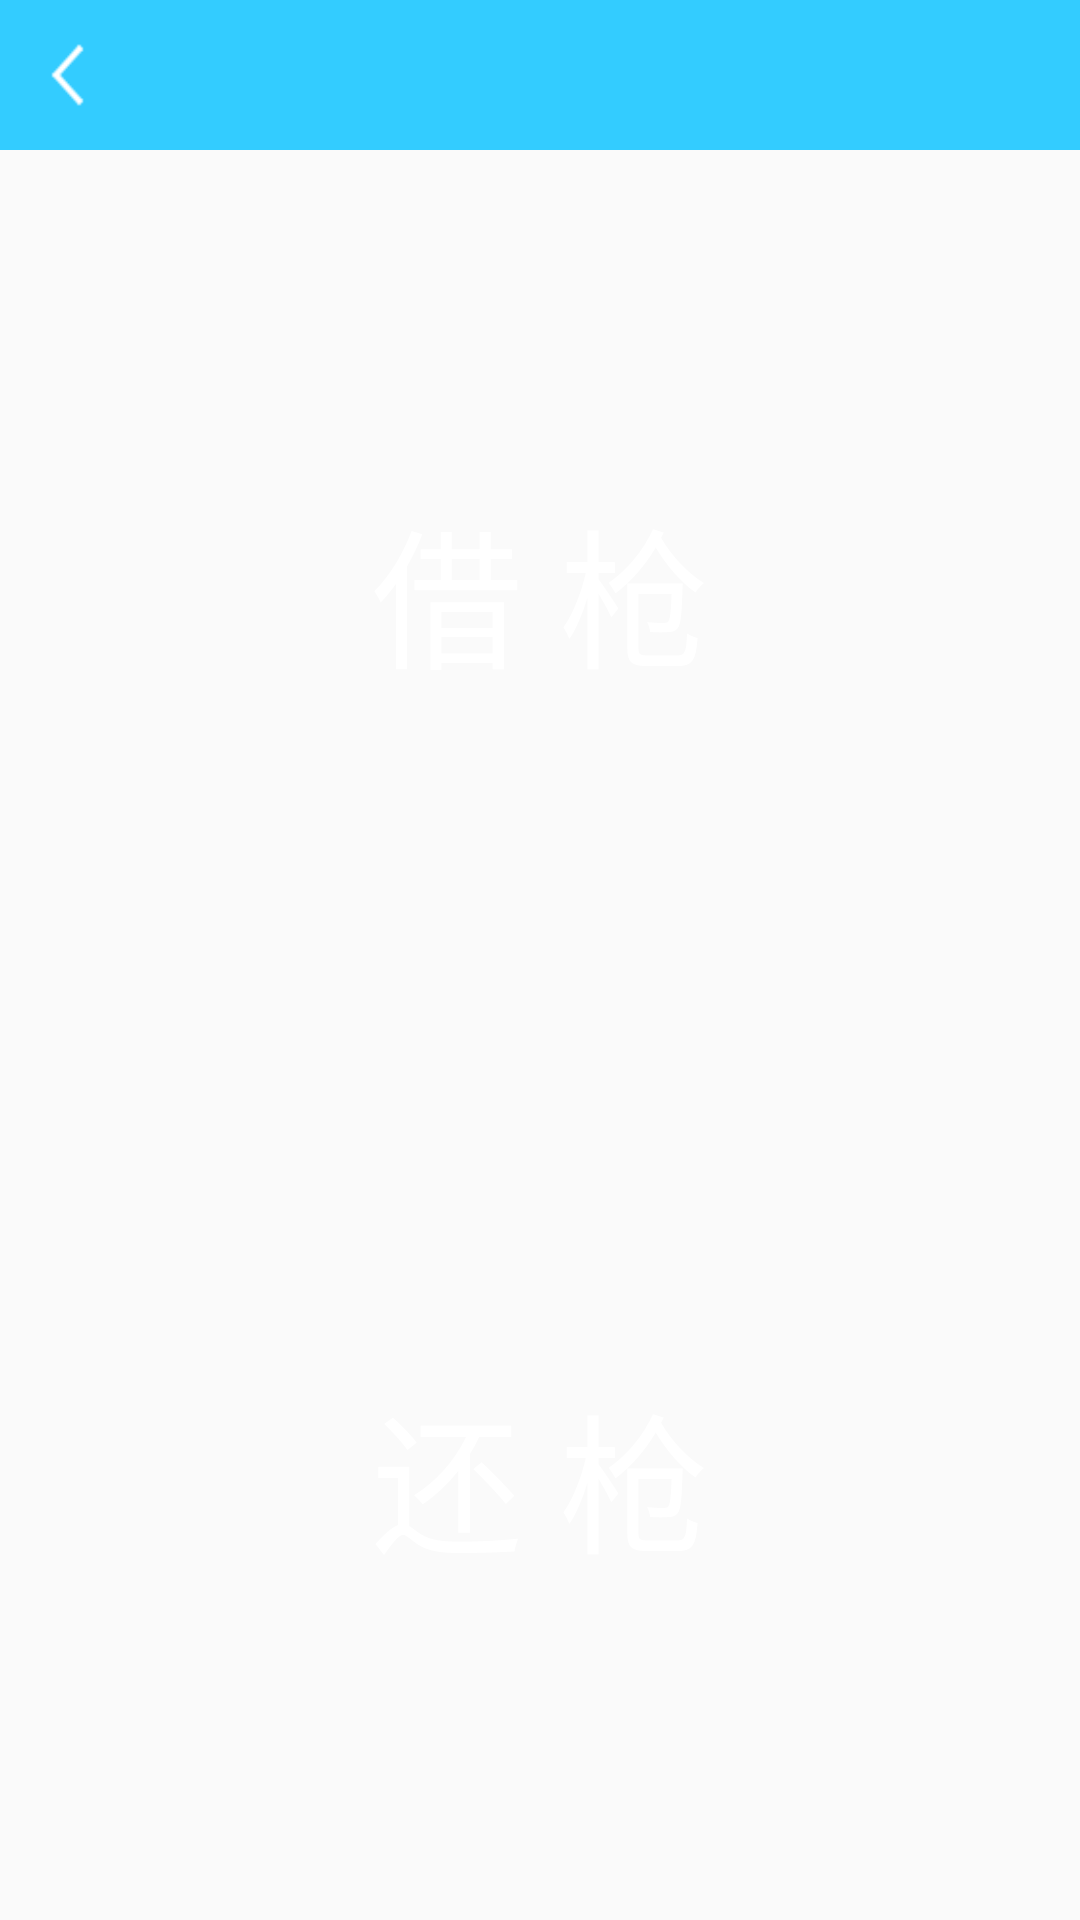

Locate icon controls on the screen. Image size 1080x1920, boxes as (x1, y1, x2, y2).
left back: (51, 44, 84, 106)
